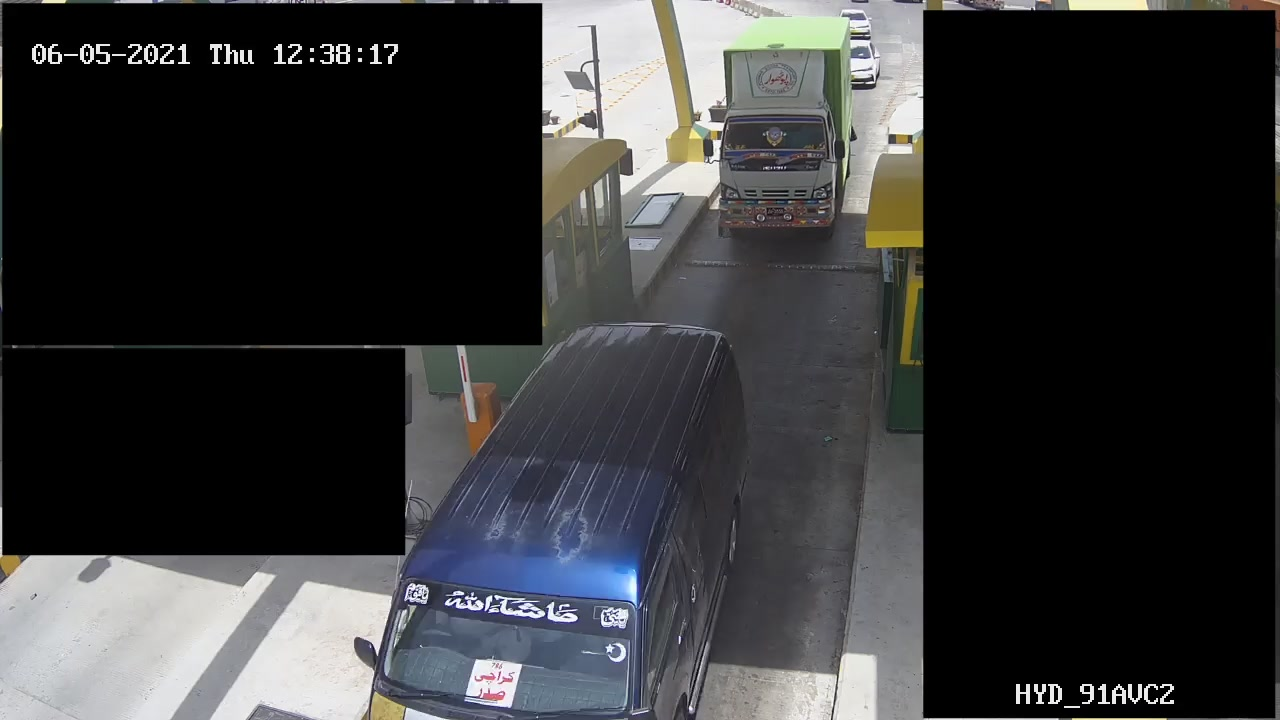F3: (702, 15, 857, 247)
